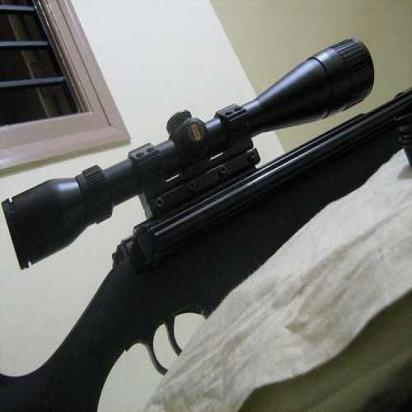Gun: (0, 31, 411, 412)
